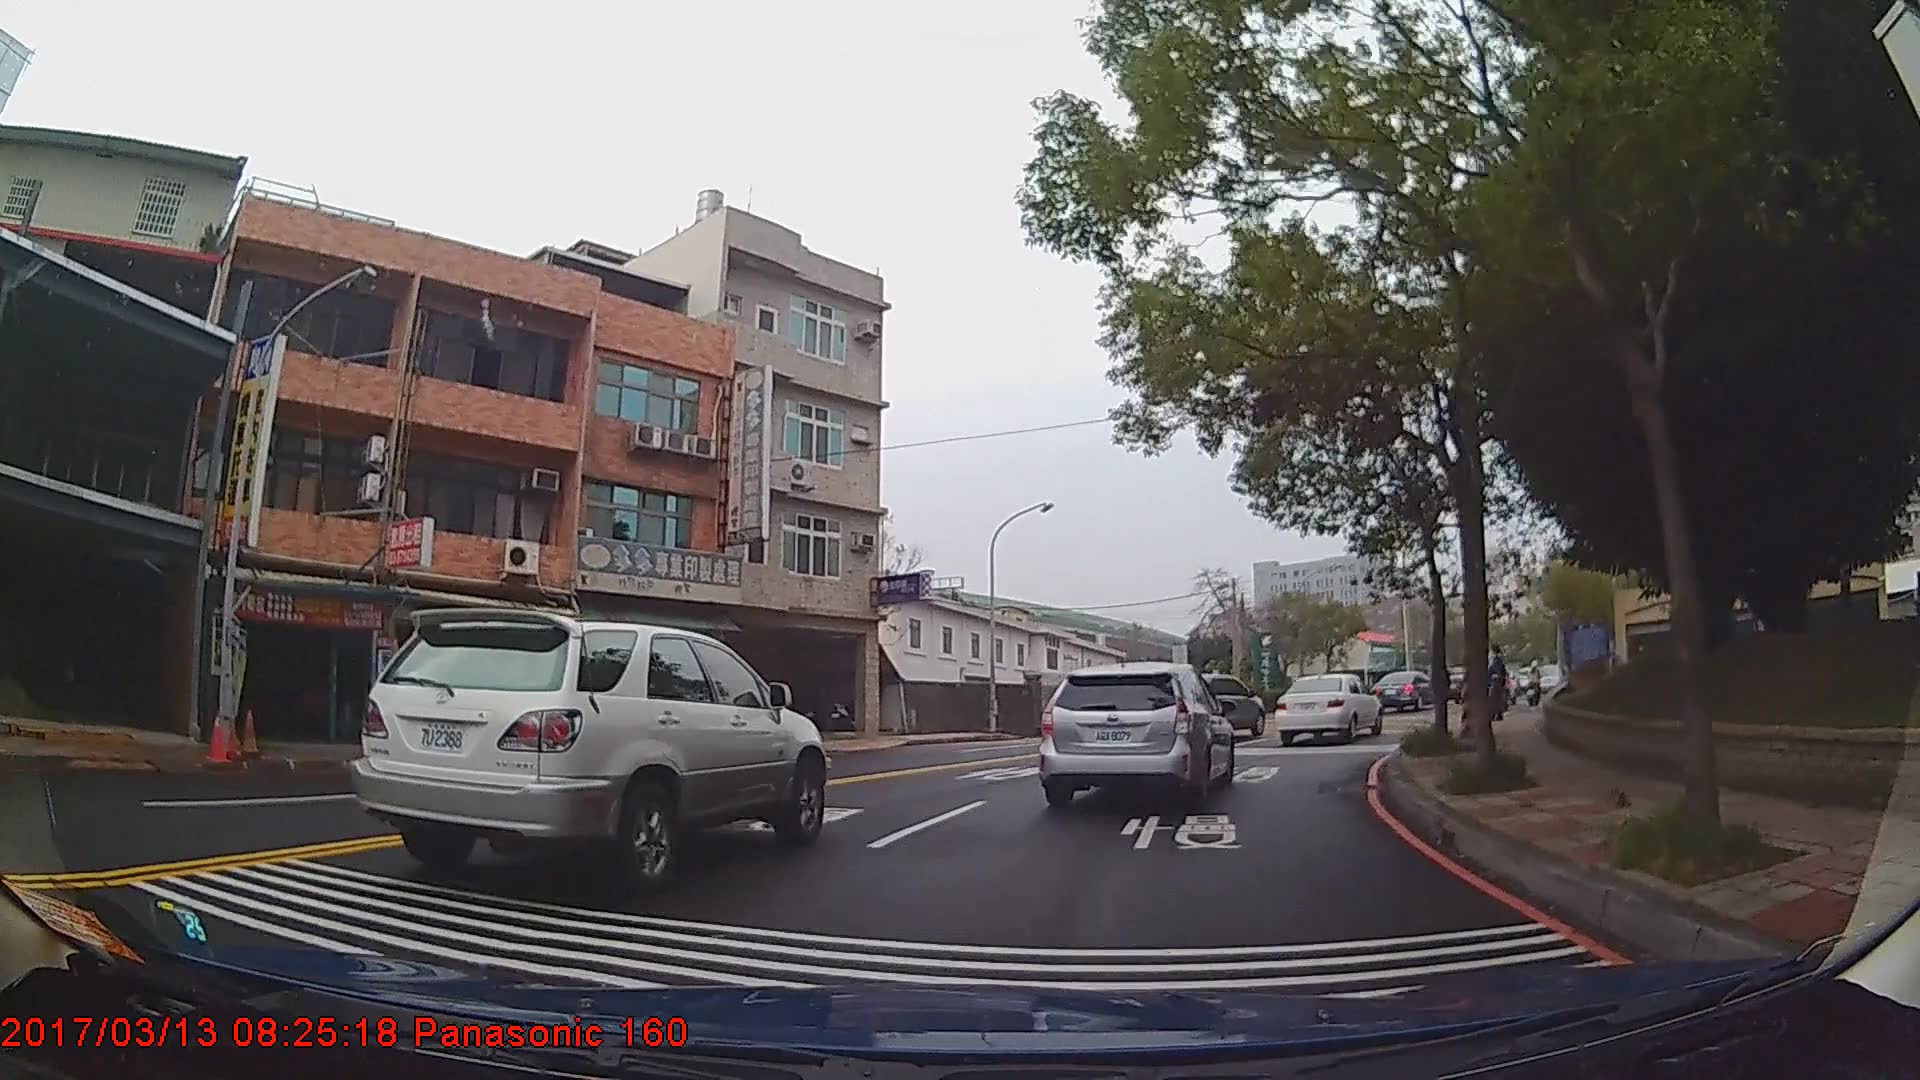vehicle: (348, 607, 825, 897), (1034, 659, 1232, 811), (1269, 671, 1379, 744), (1170, 673, 1265, 742), (1367, 667, 1435, 715)
